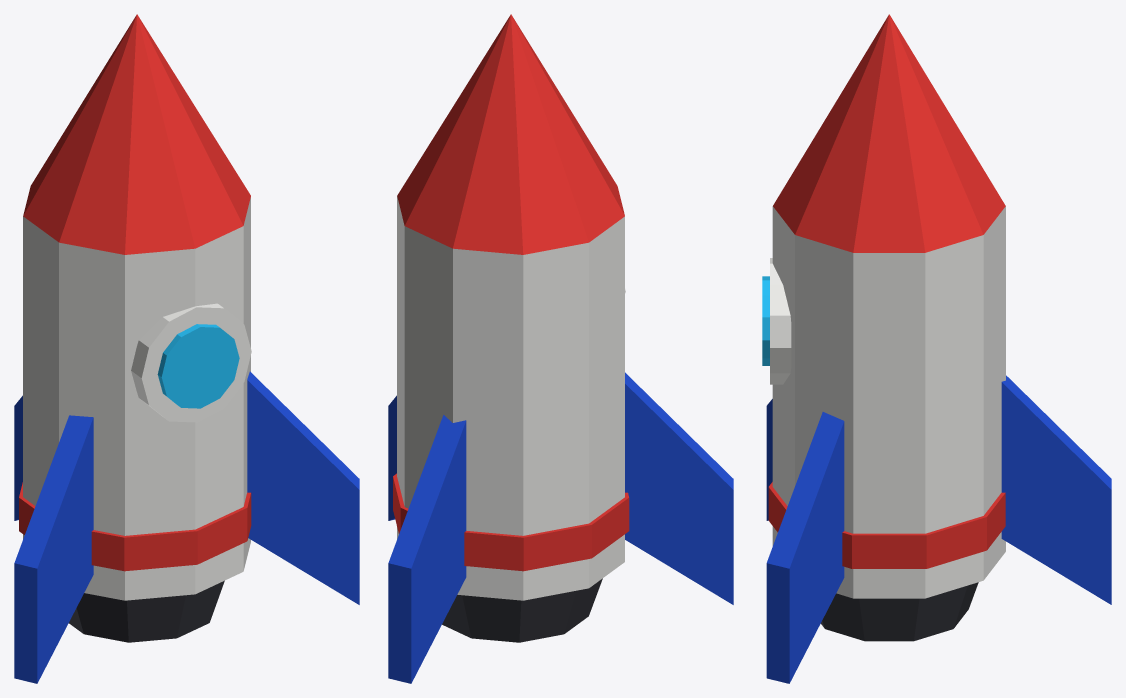
Rendered from roket.glb.
The picture shows the model from 3 angles, left to right: view 1: azimuth 30°, elevation 25°; view 2: azimuth 150°, elevation 25°; view 3: azimuth 270°, elevation 25°; orthographic projection.
Parts seen in each view (by area): view 1: roket; view 2: roket; view 3: roket.
Boxes of the visible parts, x1=… form: roket: x1=14, y1=14, x2=359, y2=683; roket: x1=388, y1=14, x2=733, y2=683; roket: x1=762, y1=14, x2=1111, y2=683.
Bounding box in the file's own units: 0.4911 × 0.8094 × 0.4308.
